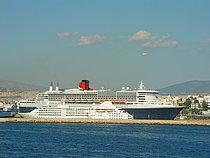Ship: (16, 87, 188, 121), (21, 108, 134, 121)
